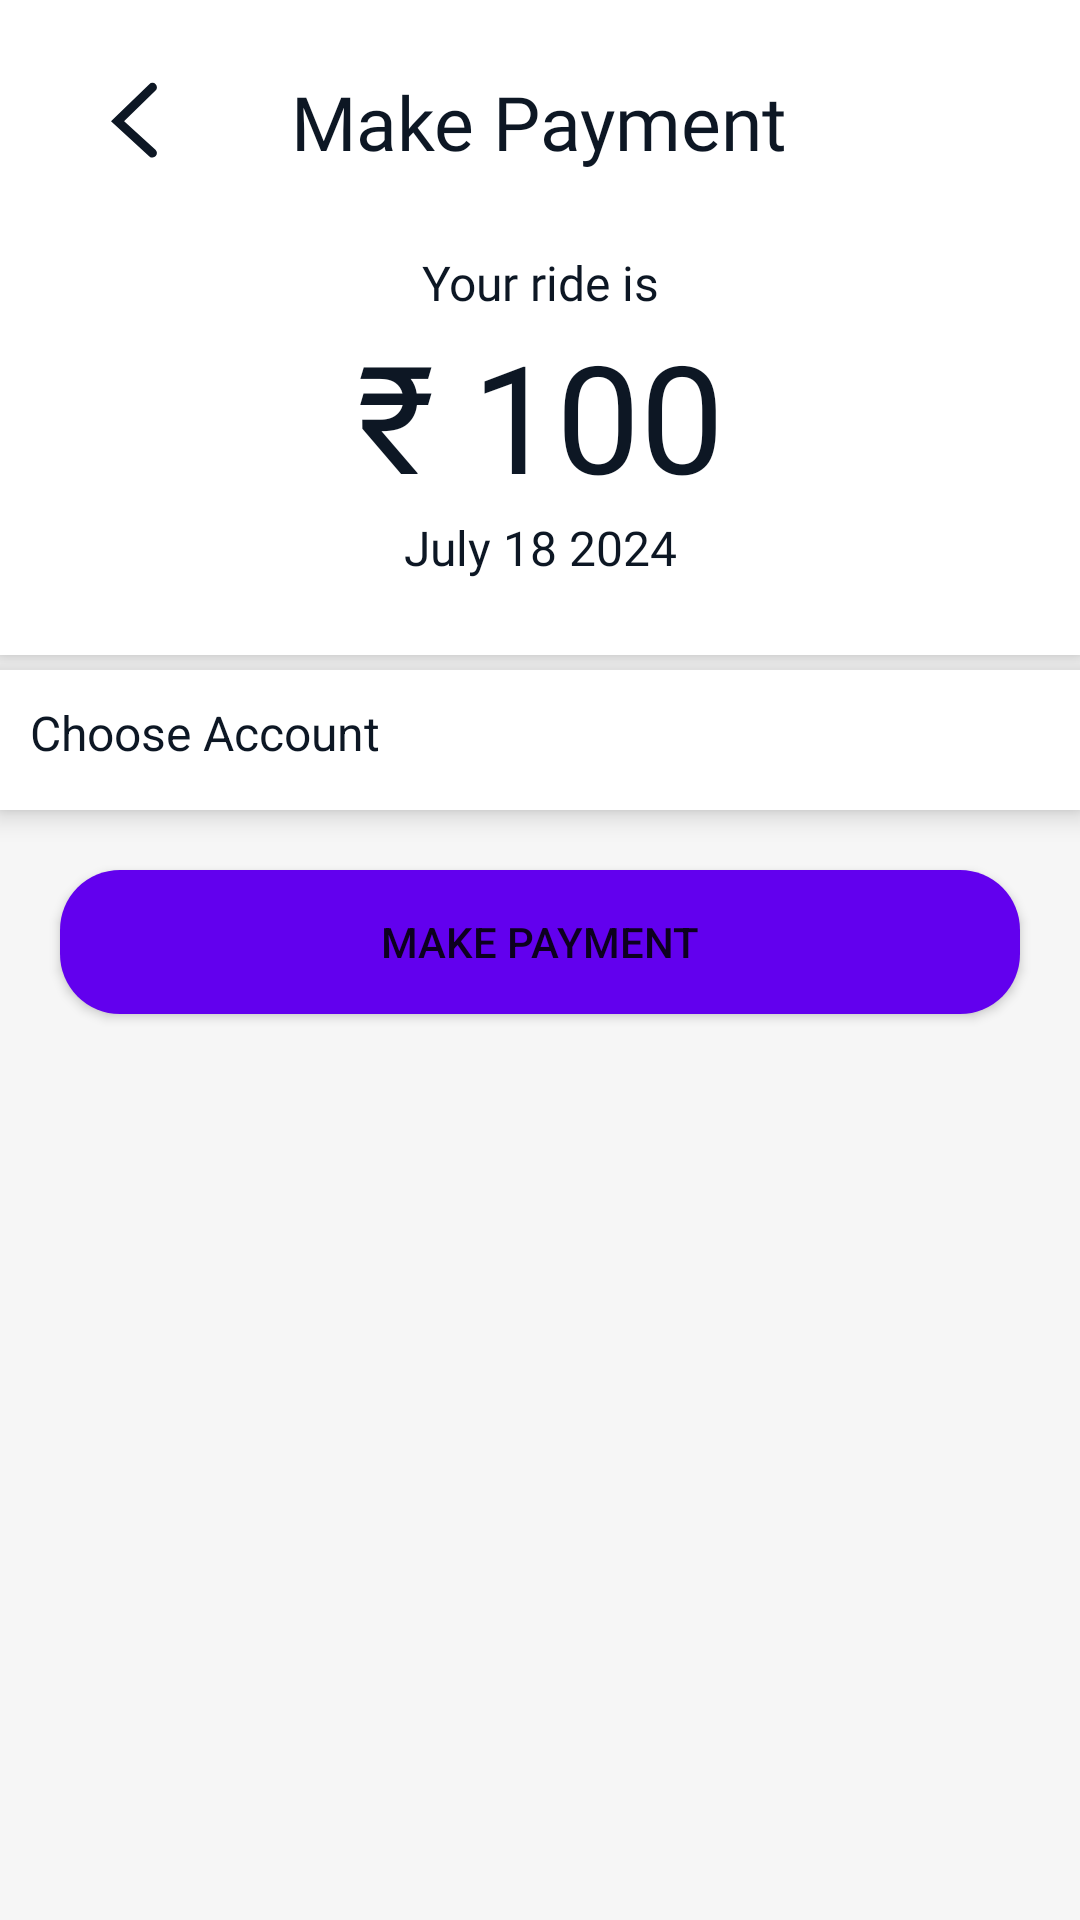

Screen size 1080x1920. Icon name, then its box in pixels as box=[x1, y1, x2, y2]:
back arrow: box=[111, 82, 157, 158]
